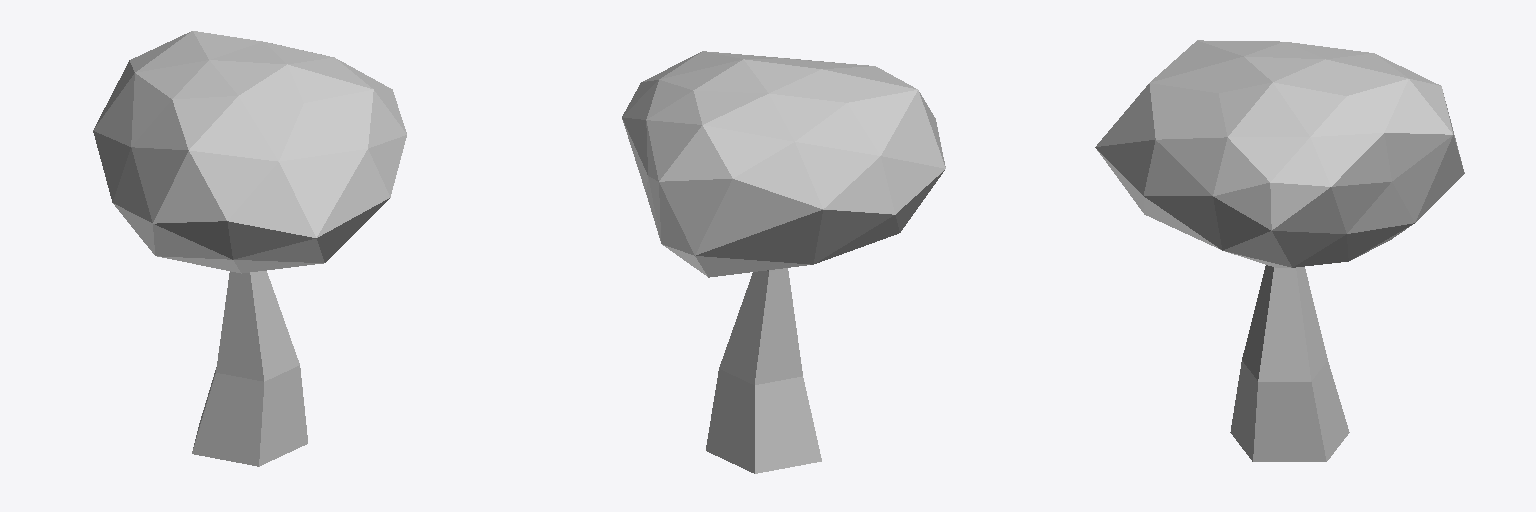
Rendered from Low_Poly_Tree_001_hitbox.obj.
3 views of the same model, side by side, from view 1: azimuth 30°, elevation 25°; view 2: azimuth 150°, elevation 25°; view 3: azimuth 270°, elevation 25° (orthographic).
Visible parts, largest first — view 1: Low_Poly_Tree_001_Icosphere, Low_Poly_Tree_001.001_Icosphere.001; view 2: Low_Poly_Tree_001_Icosphere, Low_Poly_Tree_001.001_Icosphere.001; view 3: Low_Poly_Tree_001_Icosphere, Low_Poly_Tree_001.001_Icosphere.001.
Part boxes in pixels (x1,y1,x2,y2): Low_Poly_Tree_001_Icosphere: (93,31,406,273); Low_Poly_Tree_001.001_Icosphere.001: (192,271,307,466); Low_Poly_Tree_001_Icosphere: (622,51,945,277); Low_Poly_Tree_001.001_Icosphere.001: (706,269,821,473); Low_Poly_Tree_001_Icosphere: (1095,40,1464,267); Low_Poly_Tree_001.001_Icosphere.001: (1230,265,1349,461).
Size of the model in its own units: 5.17 by 6.59 by 5.89.